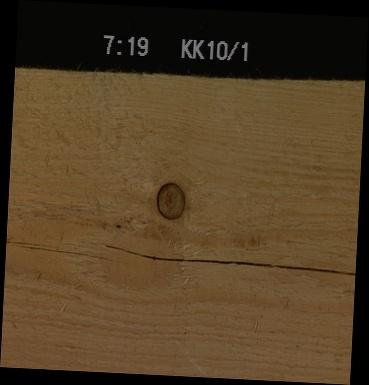dry_knot: (154, 180, 186, 220)
split: (104, 250, 355, 270), (5, 239, 121, 258)
